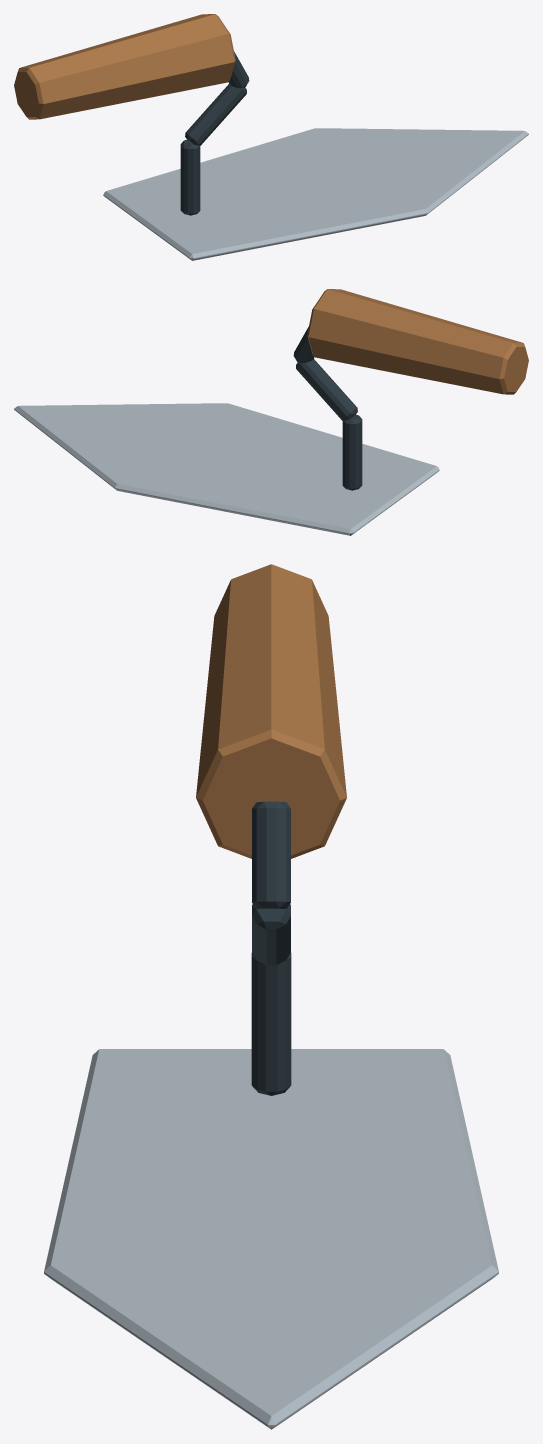
Rendered from b06_masonry_trowel.glb.
3 renders of one model, top to bottom at view 1: azimuth 30°, elevation 25°; view 2: azimuth 150°, elevation 25°; view 3: azimuth 270°, elevation 25°, orthographic. The views are drawn at different scales.
Visible parts, largest first — view 1: b06_masonry_trowel; view 2: b06_masonry_trowel; view 3: b06_masonry_trowel.
Boxes of the visible parts, box(x1,y1,x2,y2) form: b06_masonry_trowel: box(14, 14, 528, 260); b06_masonry_trowel: box(14, 289, 528, 535); b06_masonry_trowel: box(44, 564, 498, 1429).
Bounding box in the file's own units: 0.3055 × 0.1159 × 0.12.
